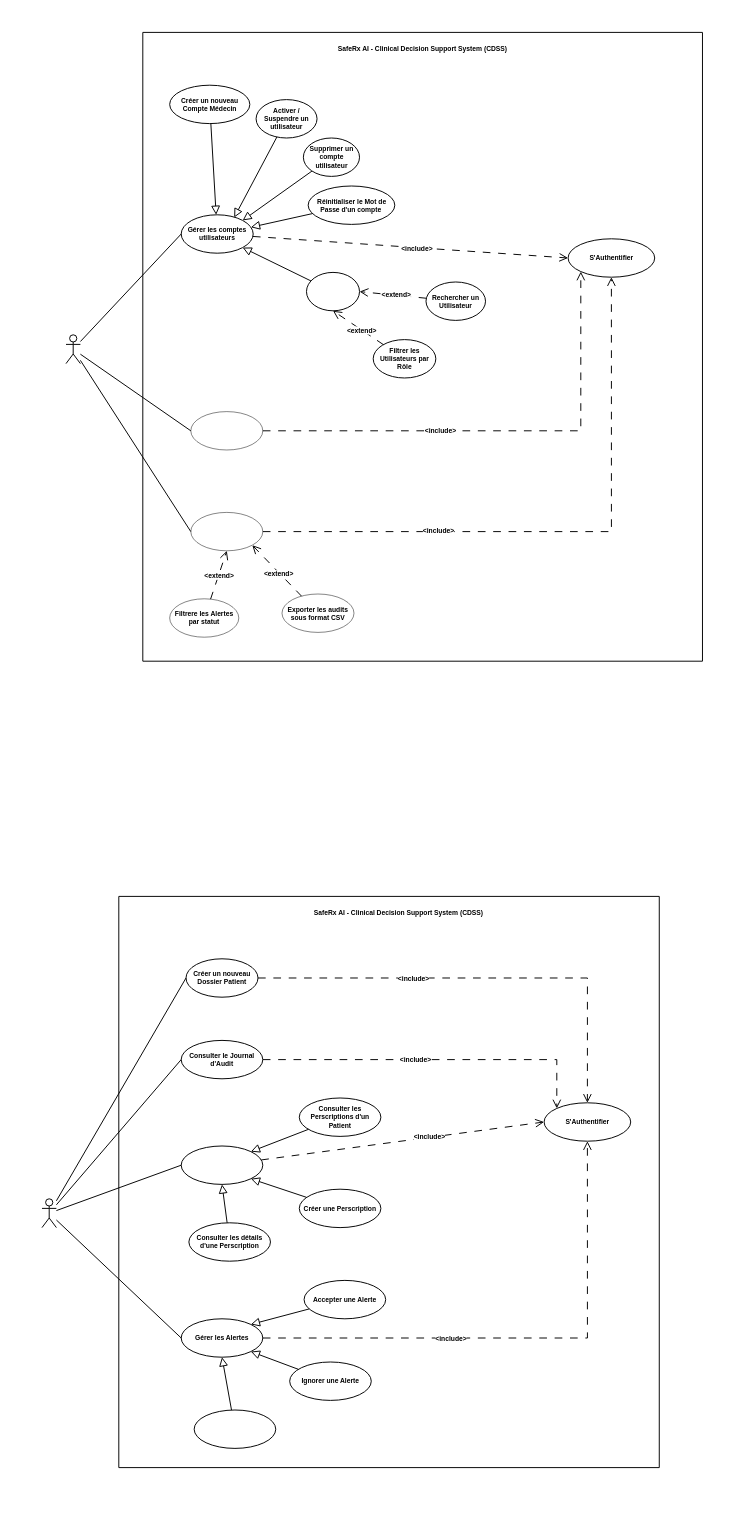
The diagram is 741 pixels wide and 1514 high, and some of its shapes have lost their labels. Here are the shapes that lost their labels. From the top down, the centre of each, then its label:
At [333,291]: "Consulter la Liste des Utilisateurs".
At [73,349]: "Admin".
At [226,430]: "Consulter les Statistiques".
At [226,531]: "Consulter la Piste d'Audit".
At [221,1165]: "Gérer les Perscriptions".
At [49,1213]: "Medecin".
At [234,1429]: "Ovveride une Alerte".
